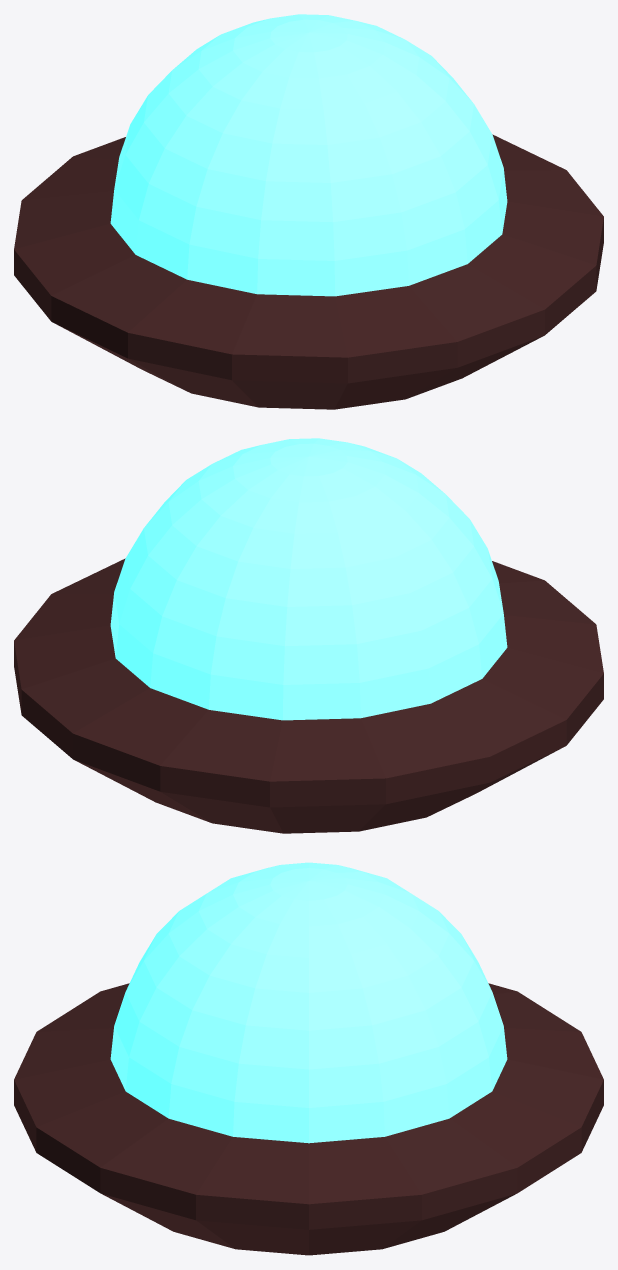
File: ufo.glb
3 renders of one model, top to bottom at view 1: azimuth 30°, elevation 25°; view 2: azimuth 150°, elevation 25°; view 3: azimuth 270°, elevation 25°, orthographic.
Parts seen in each view (by area): view 1: Sphere; view 2: Sphere; view 3: Sphere.
Boxes of the visible parts, x1=… form: Sphere: x1=14, y1=14, x2=603, y2=409; Sphere: x1=14, y1=438, x2=603, y2=833; Sphere: x1=14, y1=862, x2=603, y2=1255.
Size of the model in its own units: 10.03 by 5.51 by 10.03.
